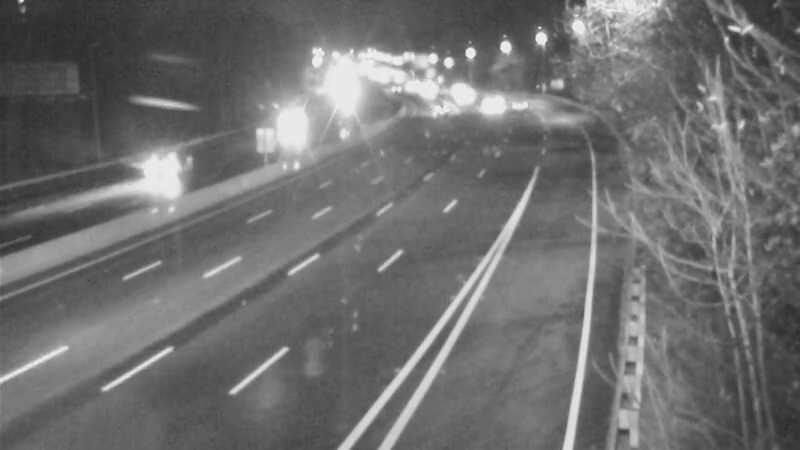vehicle: (119, 123, 199, 203), (439, 70, 489, 120), (464, 80, 514, 130), (497, 77, 547, 127), (408, 84, 458, 134), (260, 105, 310, 155)
